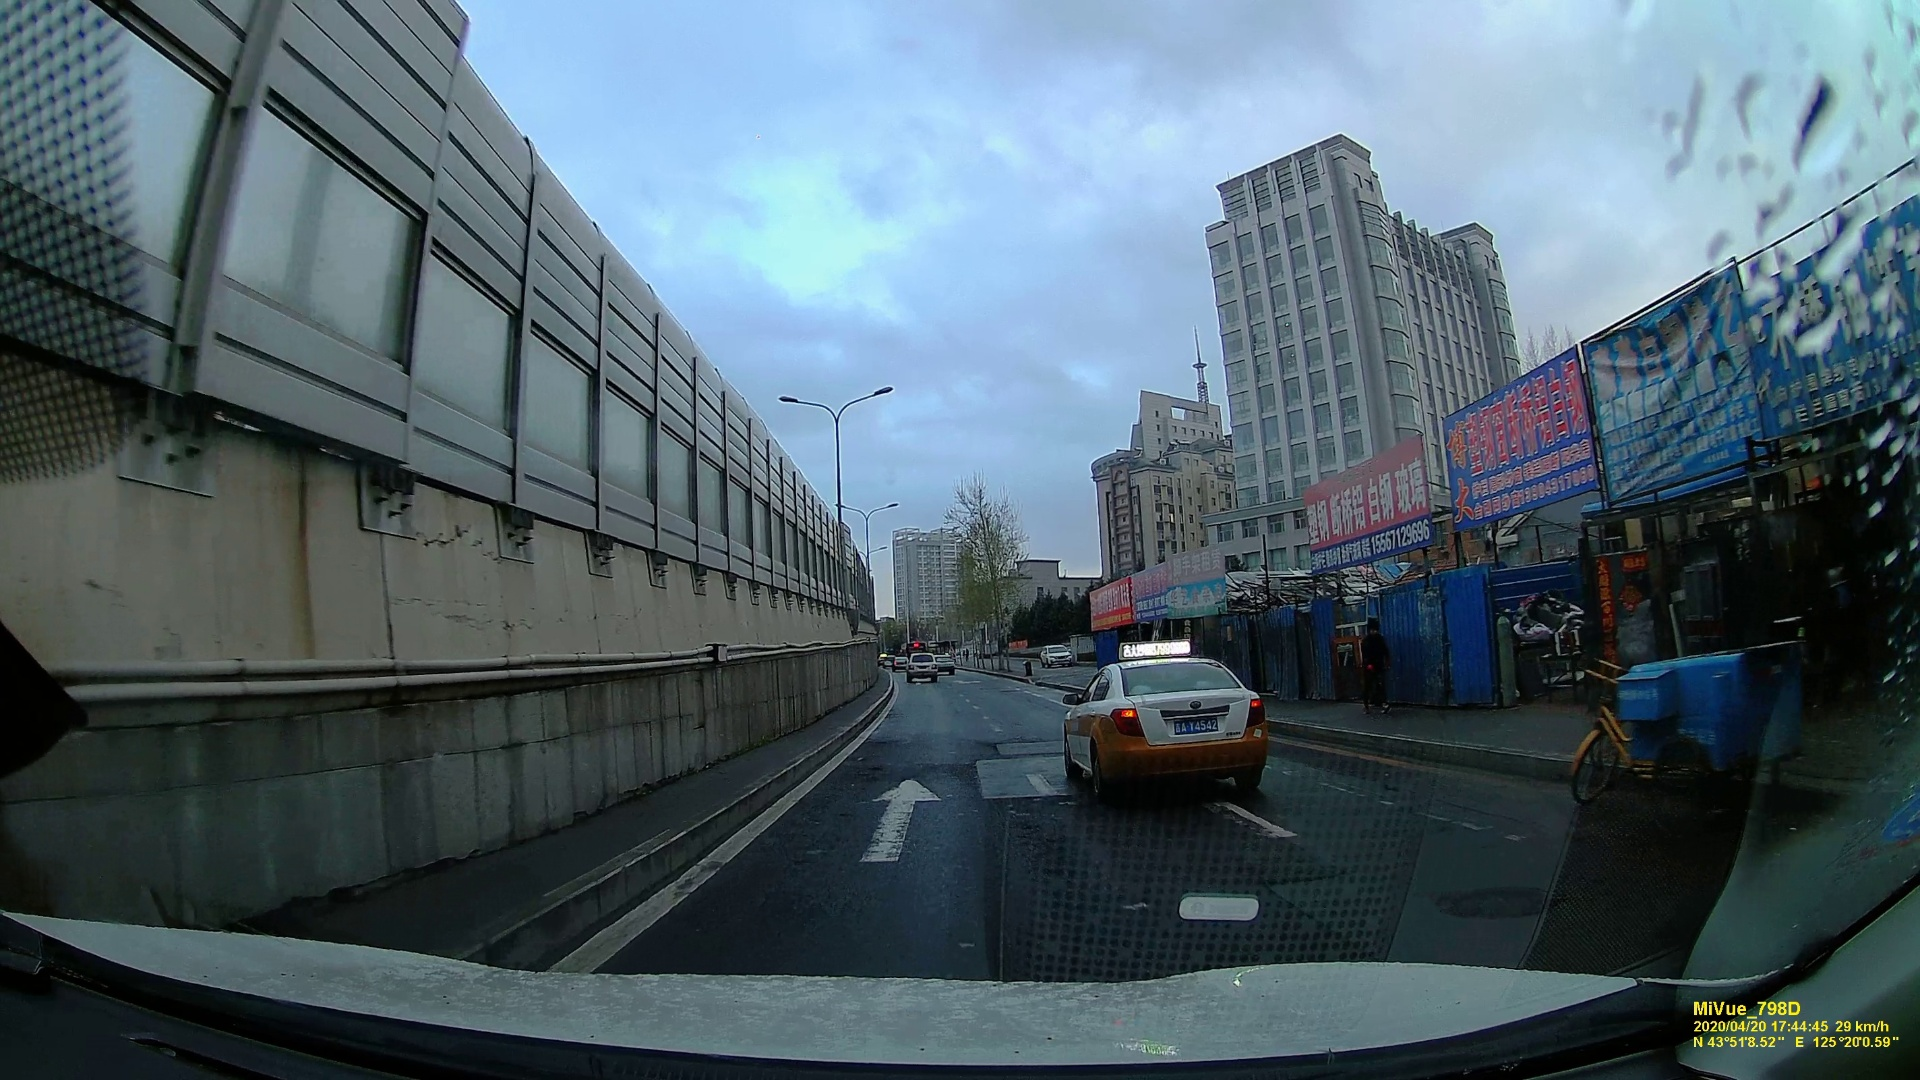person: (1355, 620, 1398, 717)
vehicle: (1059, 652, 1271, 803), (905, 653, 939, 684), (1041, 645, 1071, 669)
